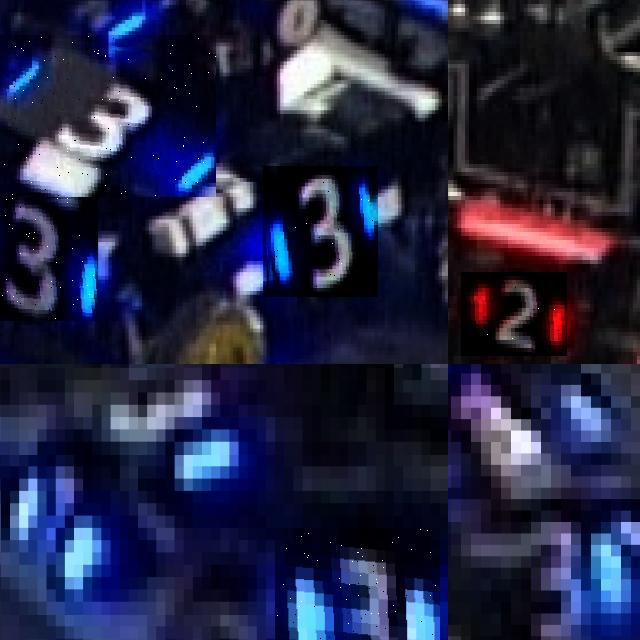B3: (0, 35, 216, 197), (275, 528, 439, 640), (263, 166, 378, 298), (0, 193, 98, 321)
R2: (461, 272, 567, 356)
